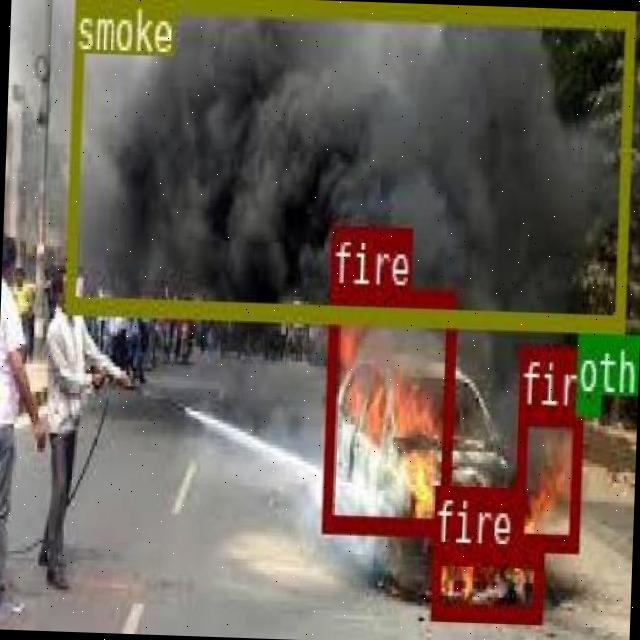fire: (321, 286, 454, 532), (511, 406, 581, 548), (427, 544, 542, 621)
smoke: (64, 0, 635, 327)
